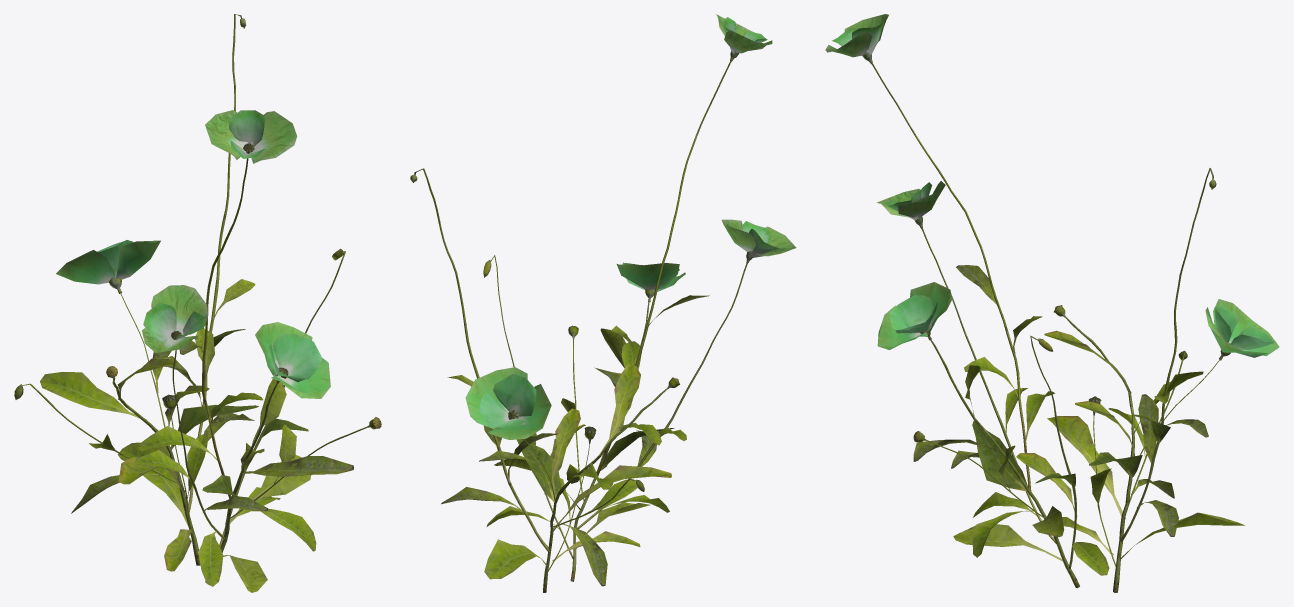
File: Poppy_bush_normal_greenyellow.glb
3 views of the same model, side by side, from view 1: azimuth 30°, elevation 25°; view 2: azimuth 150°, elevation 25°; view 3: azimuth 270°, elevation 25° (orthographic). The views are drawn at different scales.
Parts seen in each view (by area): view 1: bushhhh; view 2: bushhhh; view 3: bushhhh.
Boxes of the visible parts, x1,y1,x2,y2 form: bushhhh: [14, 14, 381, 592]; bushhhh: [410, 14, 796, 592]; bushhhh: [825, 14, 1279, 592].
Size of the model in its own units: 2.3 by 4.57 by 3.53.
Materials: 1 (1 with a texture image).
